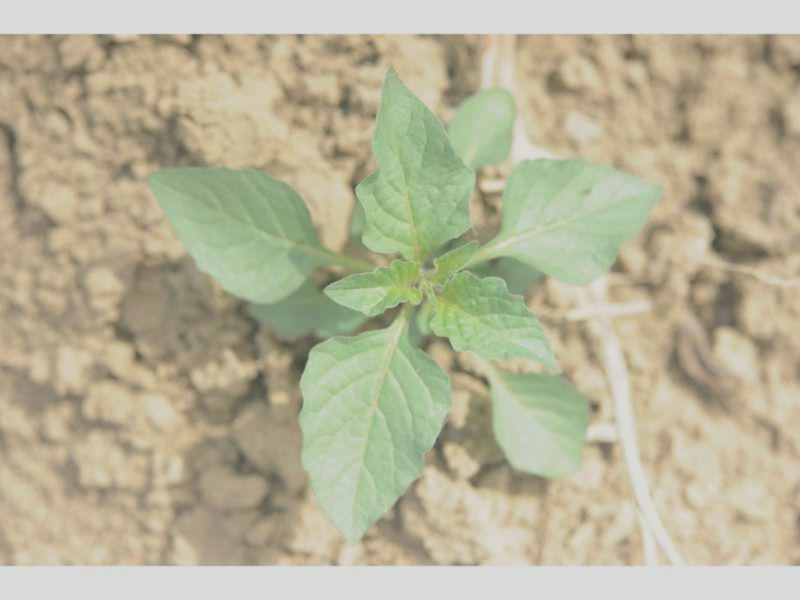nightshade: (148, 64, 663, 541)
